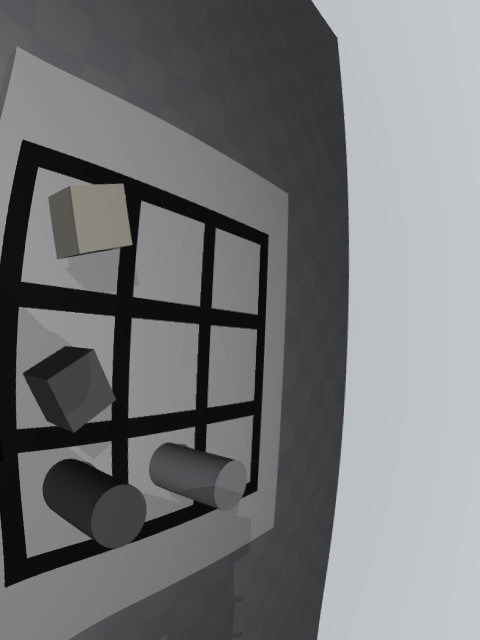can: (149, 442, 247, 511)
cube: (23, 346, 116, 433)
cylinder: (42, 458, 147, 549)
foam: (48, 183, 133, 259)
